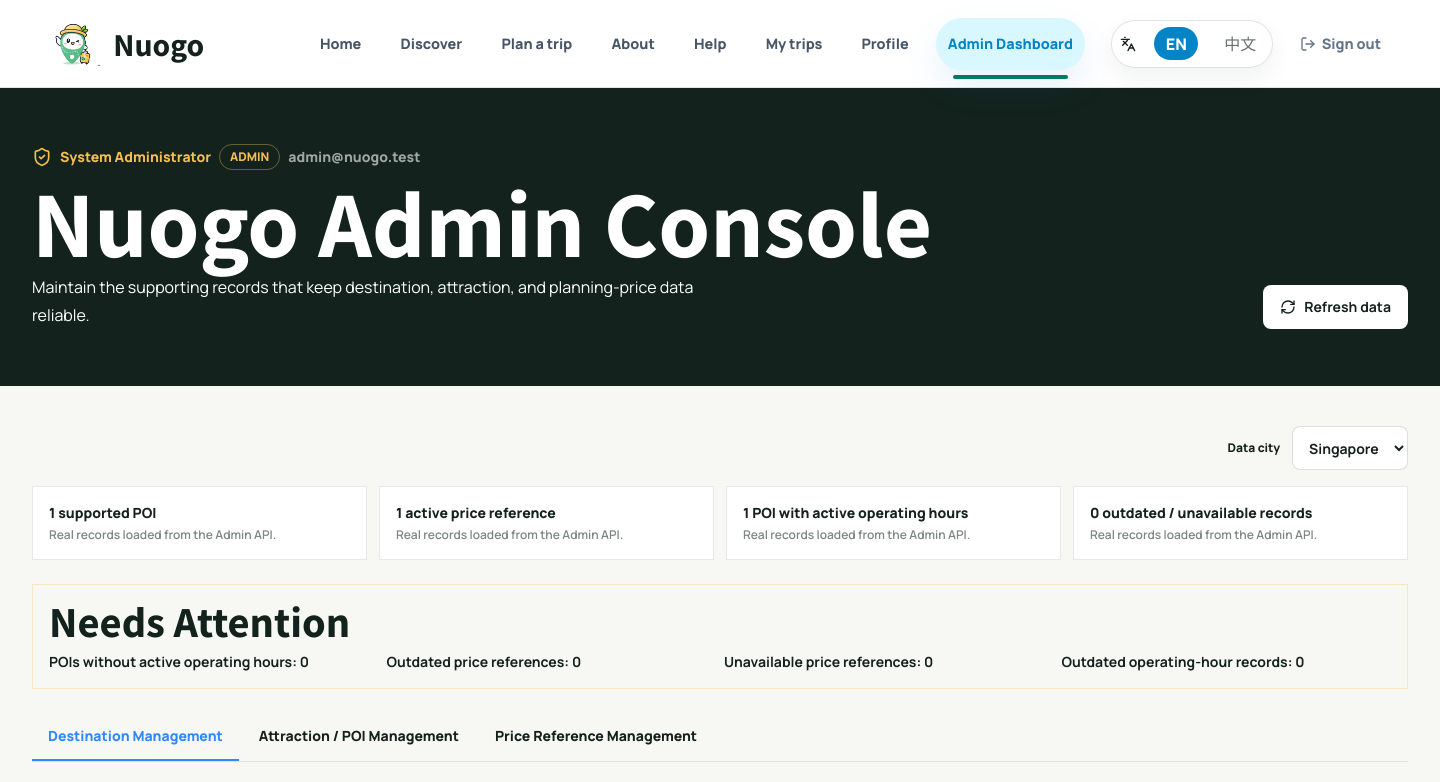
Test: report-aligned administration page › updates and retires cost-reference evidence
Expected: the heading "Nuogo Admin Console" is shown, [32,182,932,261]
Click the tab "Price Reference Management" at (596, 737), box [479,713,713,761]
(page scrolled)
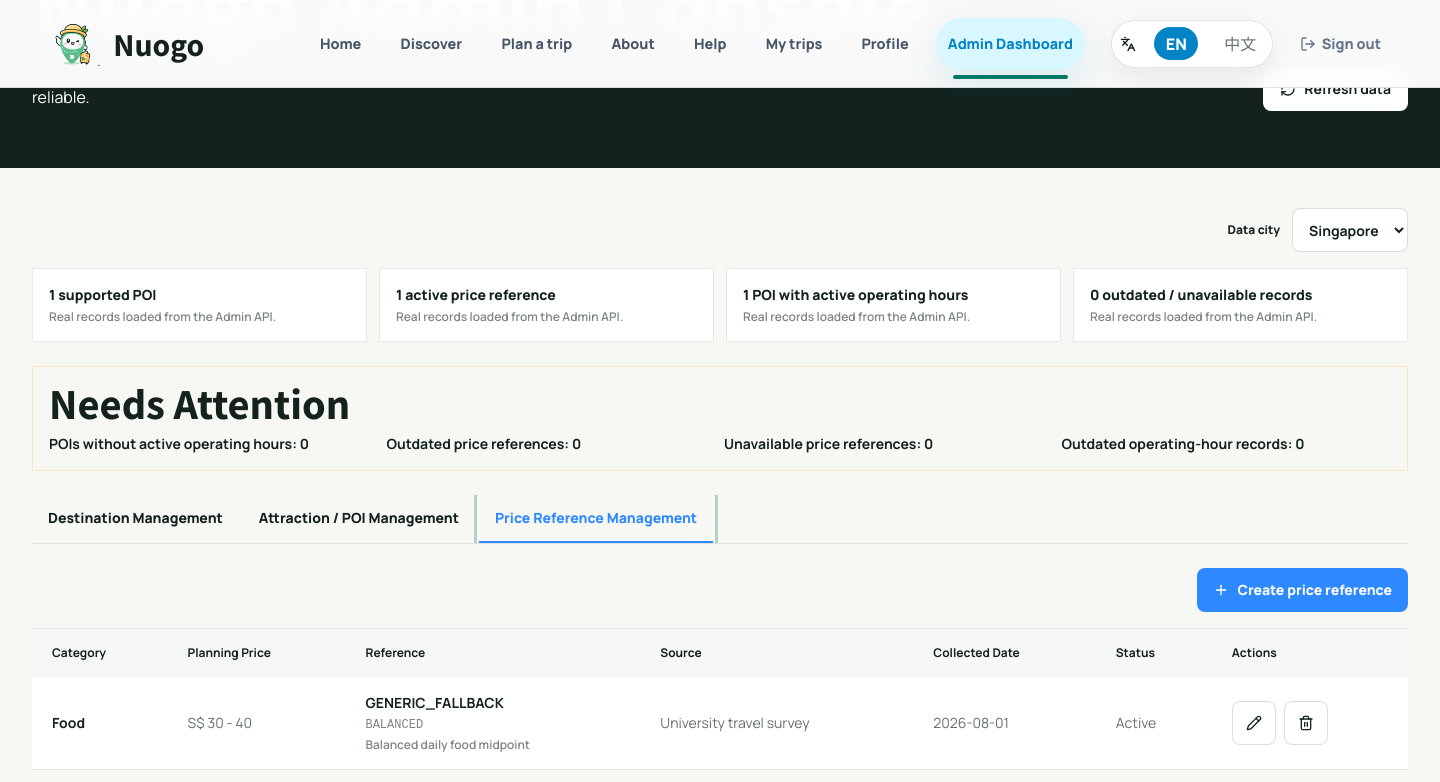
Now the text "University travel survey" is shown, box [640,677,913,769]
Click the button named "Edit University travel survey" at (1254, 723), box [1232,701,1276,745]
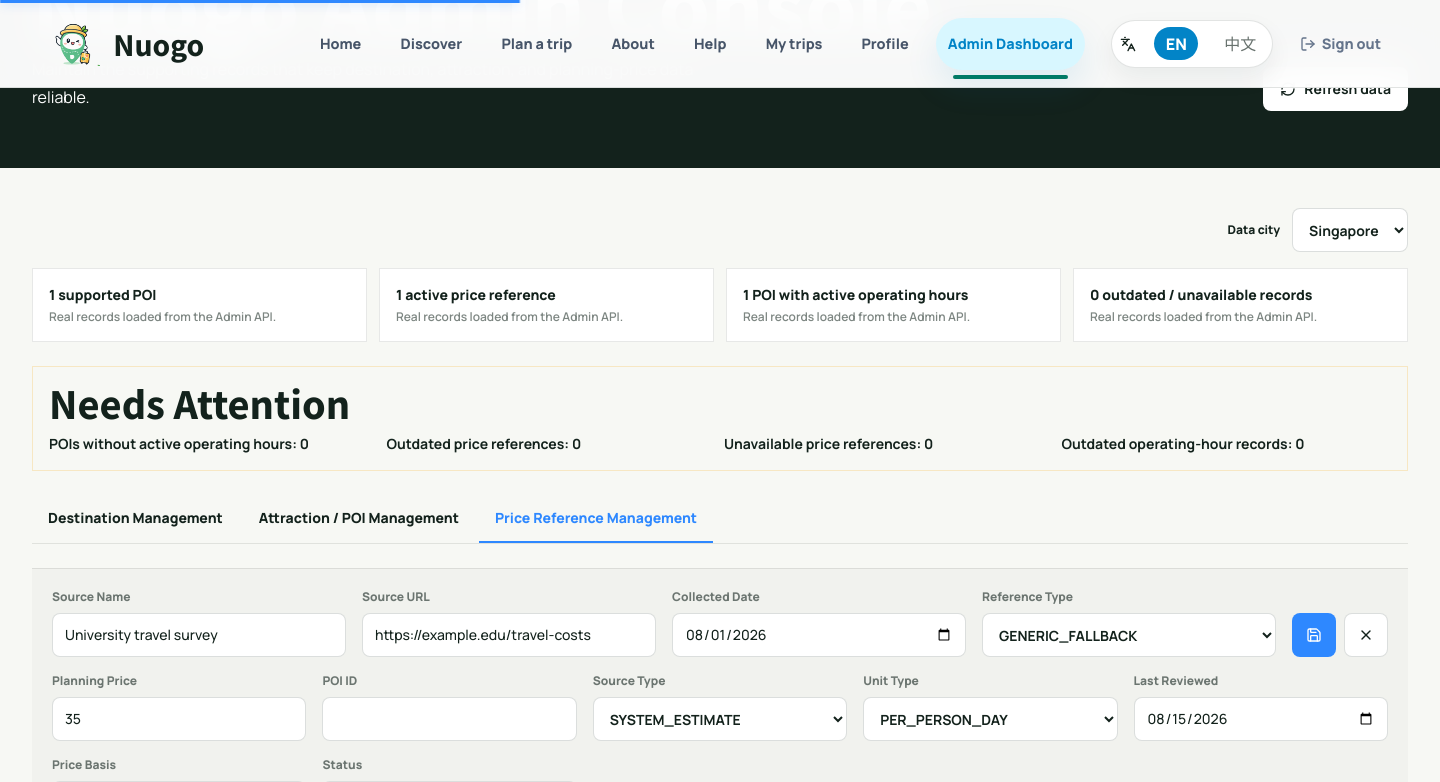
Now the number field labelled "Planning Price" holds "35", box [52,697,306,741]
Now the dropdown labelled "Reference Type" shows "GENERIC_FALLBACK", box [982,613,1276,657]
Replace the text in the field labelled "Source Name" with "Updated university survey" at (199, 635), box [52,613,346,657]
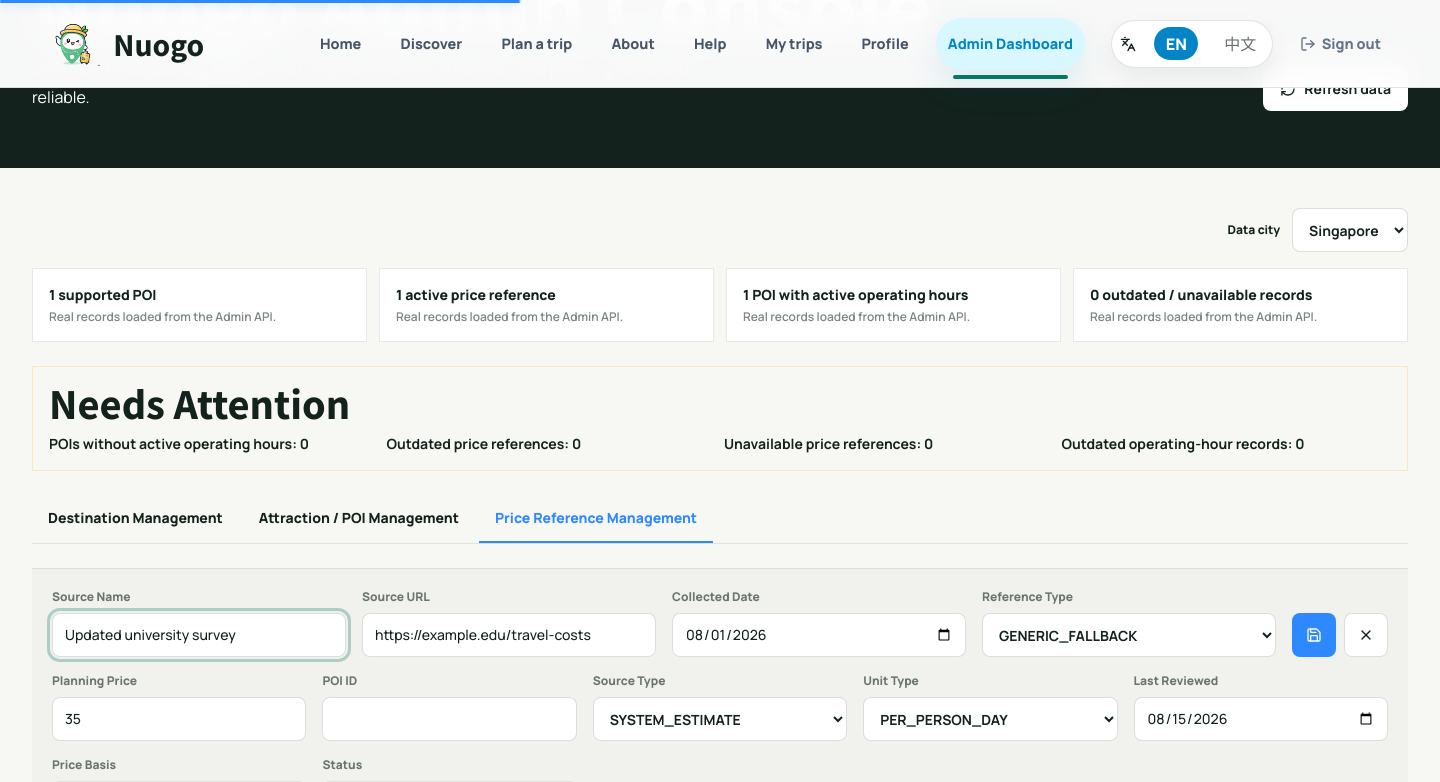
Click the button named "Save cost reference" at (1314, 635), box [1292,613,1336,657]
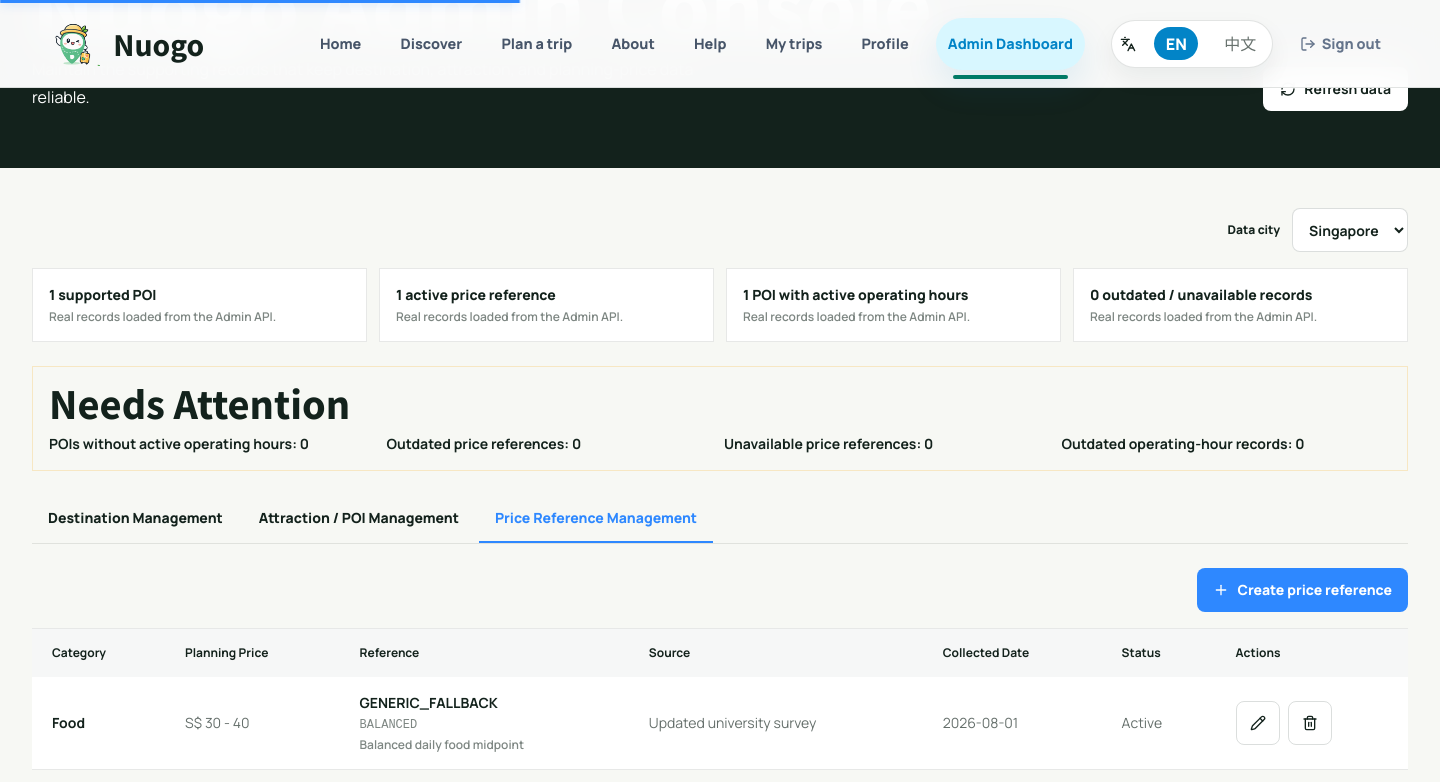
Now the text "Updated university survey" is shown, box [629,677,923,769]
Click the button named "Retire Updated university survey" at (1310, 723), box [1288,701,1332,745]
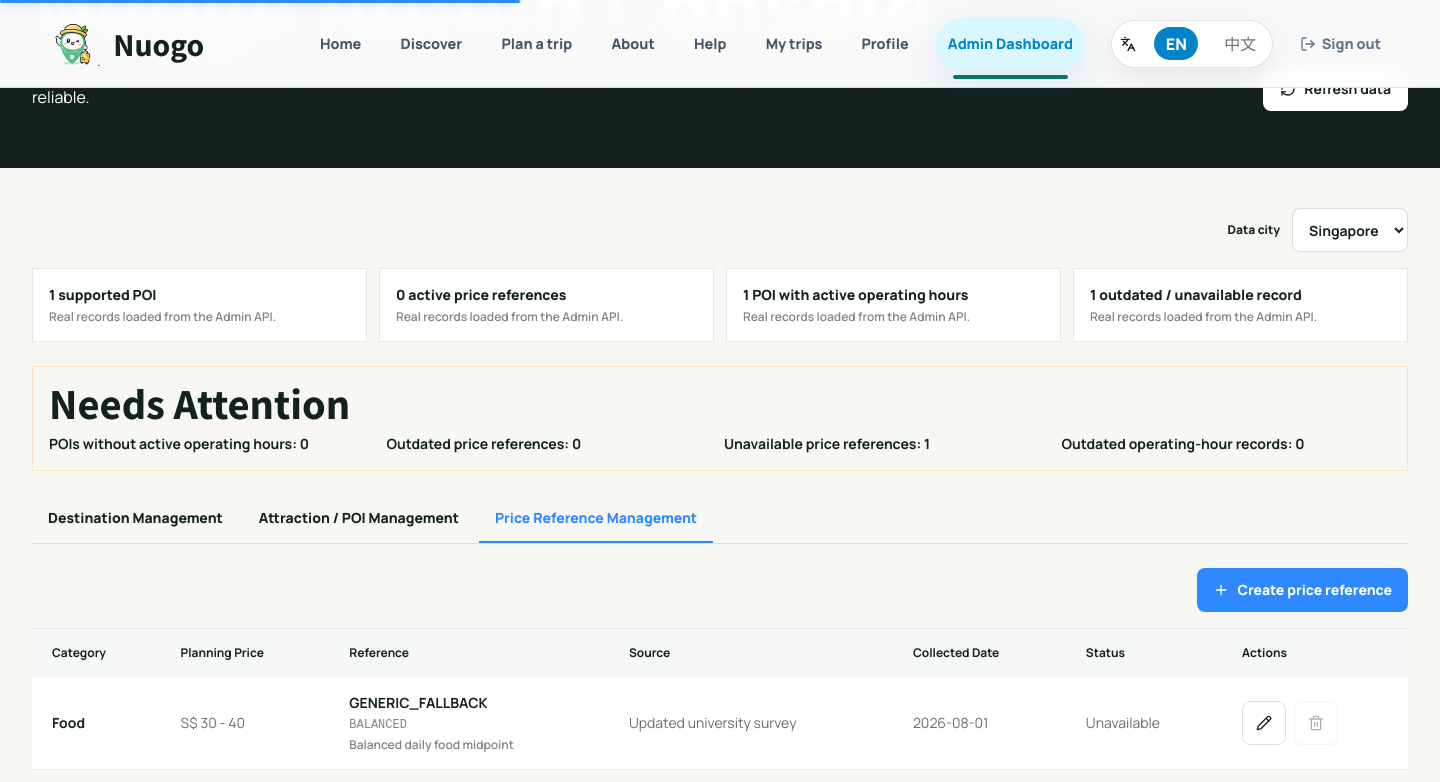
Now the text "Unavailable" is shown, box [1066,677,1222,769]
